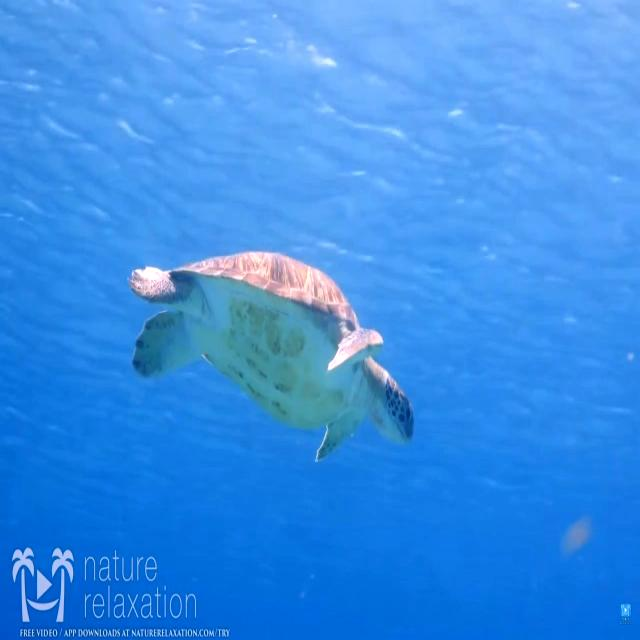Sea turtle: (129, 248, 417, 468)
